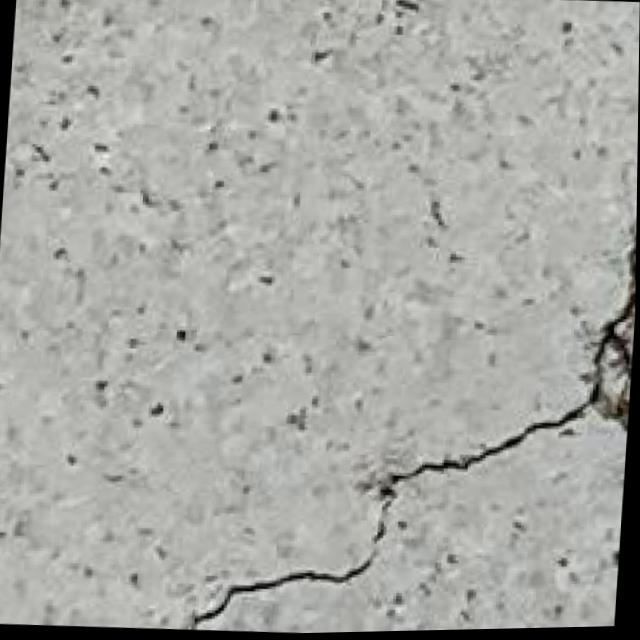Crack: (191, 208, 637, 637)
